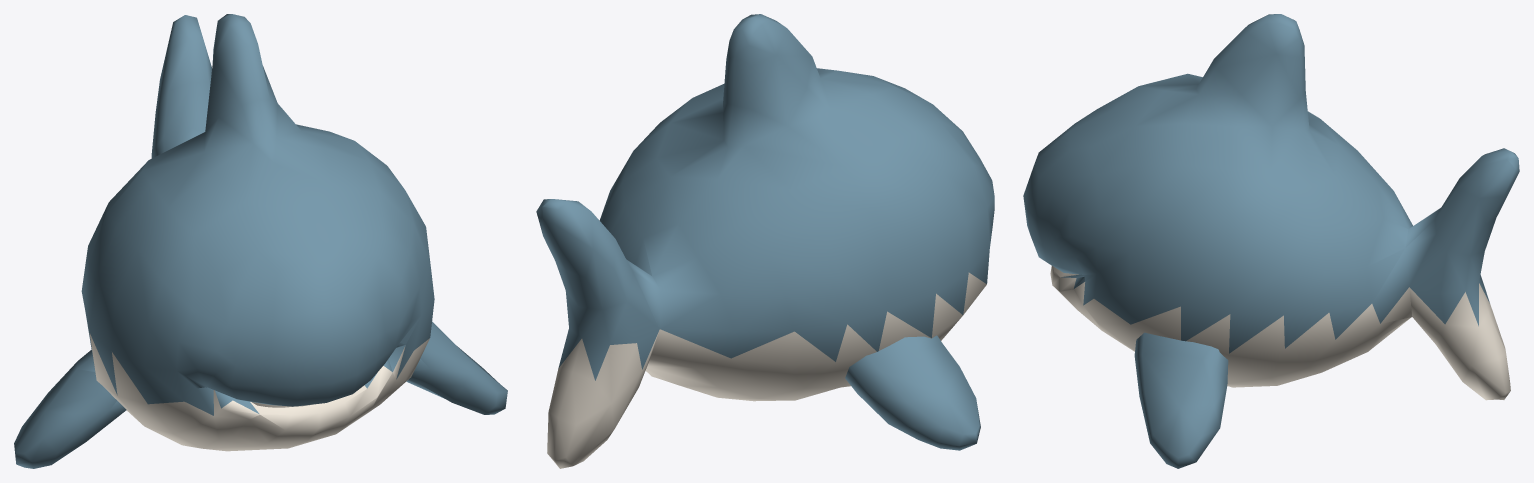
Rendered from bedroom_rabbit.glb.
3 renders of one model, left to right at view 1: azimuth 30°, elevation 25°; view 2: azimuth 150°, elevation 25°; view 3: azimuth 270°, elevation 25°, orthographic. The views are drawn at different scales.
Bounding box in the file's own units: 0.72 × 0.63 × 0.78.
